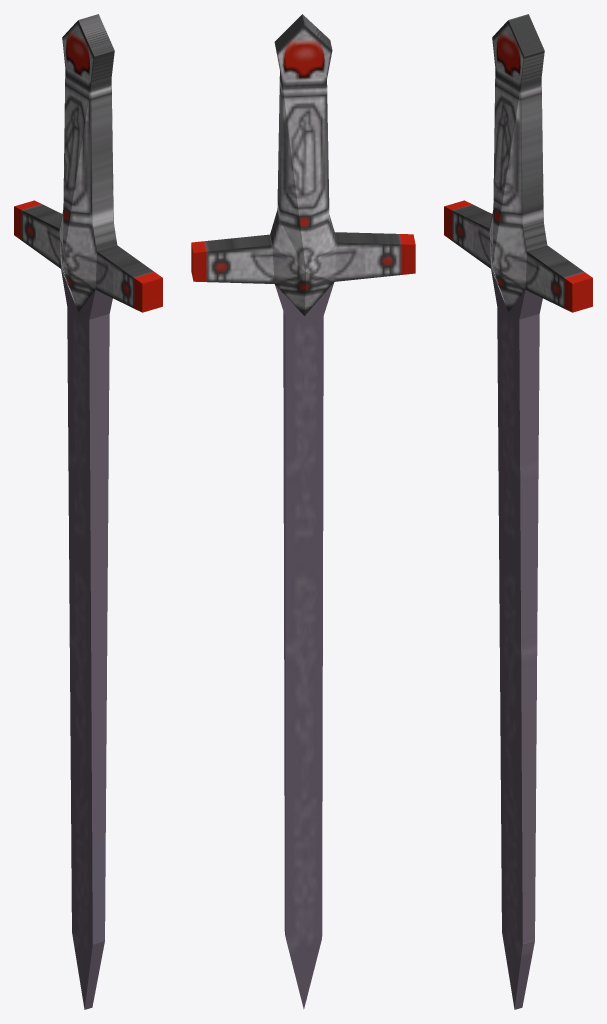
File: skGryf_Swordmesh.obj
The picture shows the model from 3 angles, left to right: view 1: azimuth 90°, elevation 25°; view 2: azimuth 150°, elevation 25°; view 3: azimuth 270°, elevation 25°; orthographic projection.
Bounding box in the file's own units: 11.89 × 65.87 × 8.95.
Materials: 1 (1 with a texture image).
